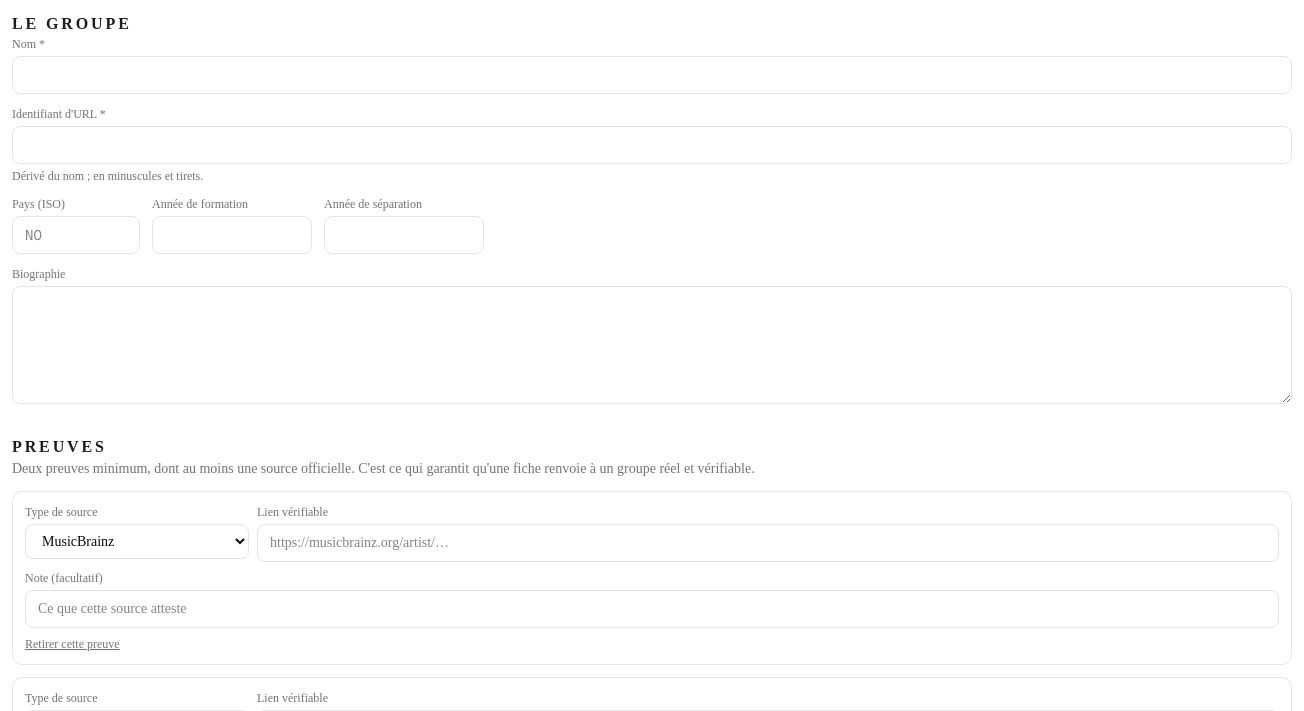
Test: ContributionForm — dérivation du slug › dérive le slug du nom, en kebab-case sans accents
This screenshot has width=1304, height=711.
In the field labelled "Nom *": (652, 75) [12,56,1292,94], type "Éternité Grise"
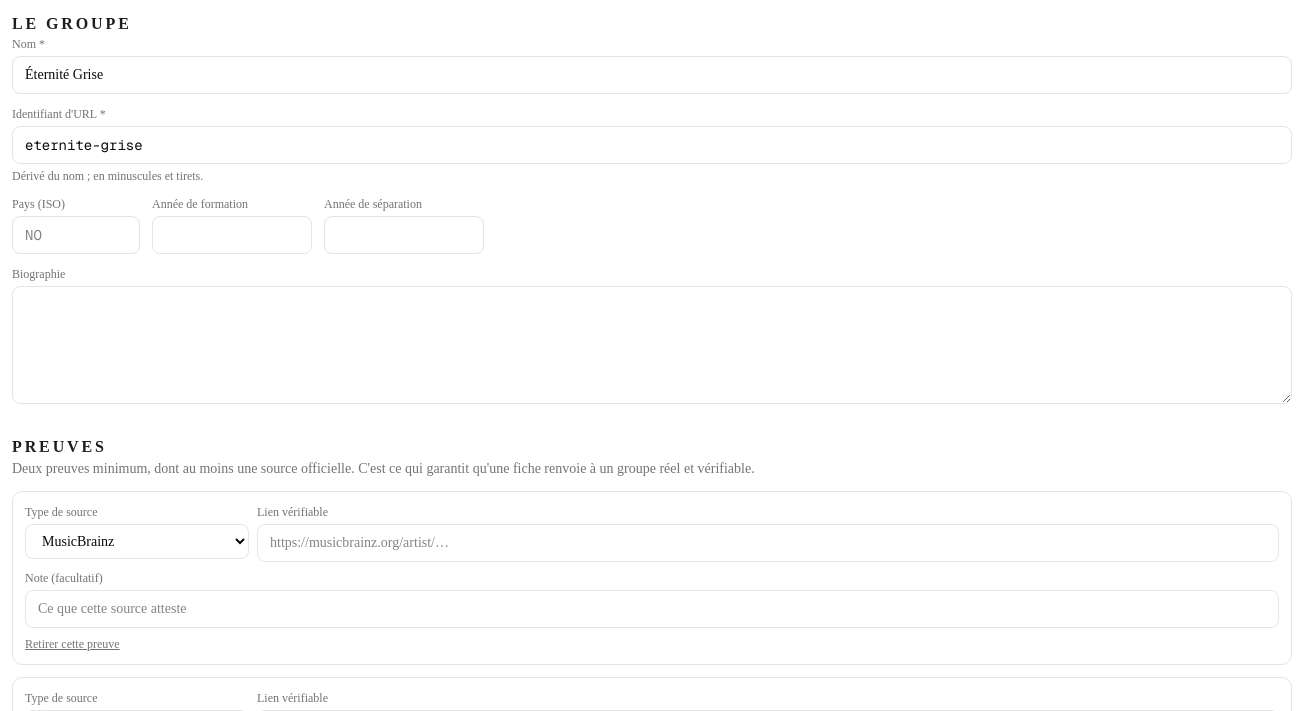
Expected: the field showing "eternite-grise" is shown, [12,126,1292,164]
